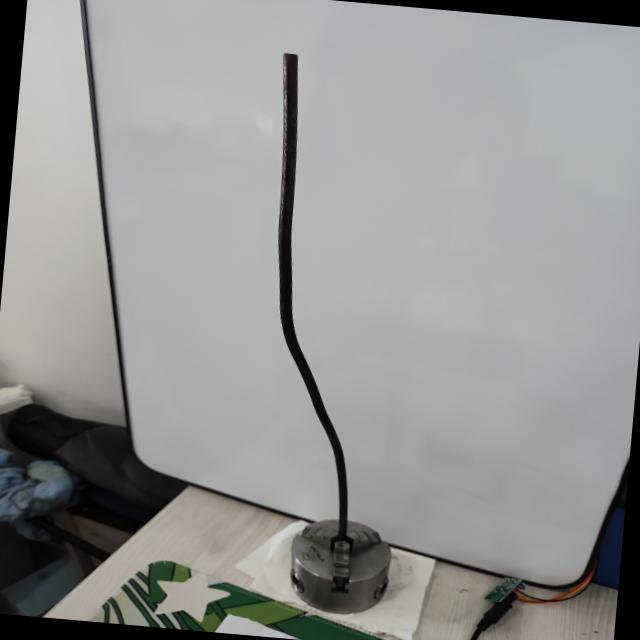plain round bar: (230, 48, 402, 535)
